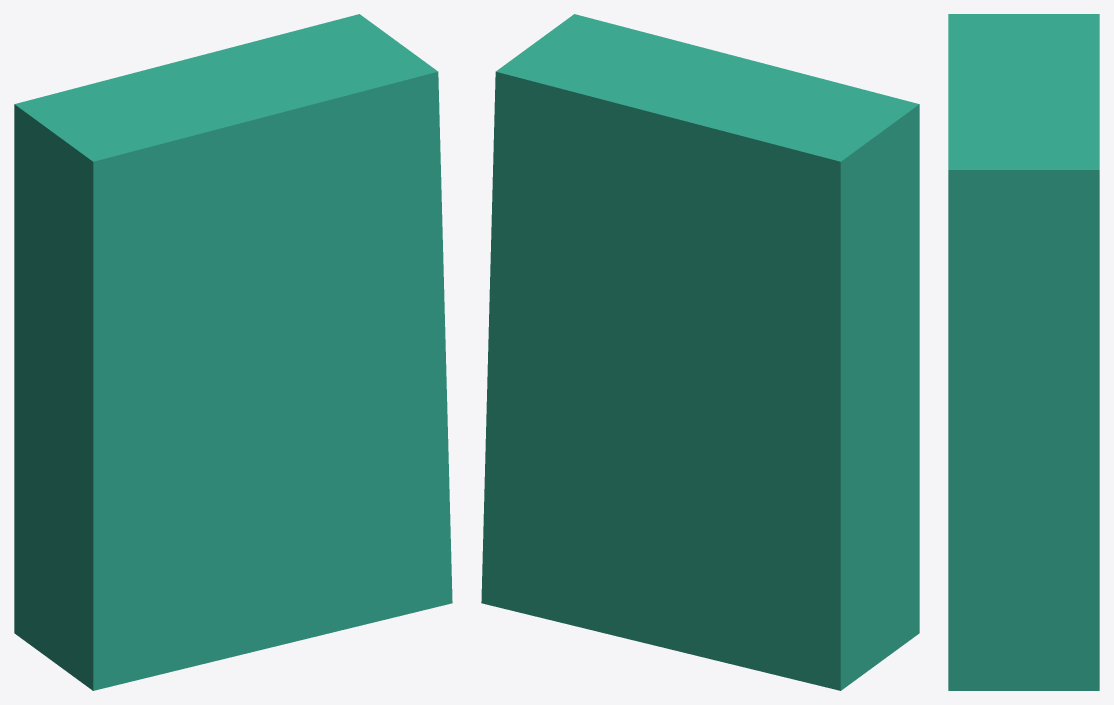
The picture shows the model from 3 angles, left to right: view 1: azimuth 30°, elevation 25°; view 2: azimuth 150°, elevation 25°; view 3: azimuth 270°, elevation 25°; orthographic projection. The views are drawn at different scales.
Visible parts, largest first — view 1: geometry_0; view 2: geometry_0; view 3: geometry_0.
Boxes of the visible parts, x1=… form: geometry_0: x1=14, y1=14, x2=452, y2=690; geometry_0: x1=481, y1=14, x2=919, y2=690; geometry_0: x1=948, y1=14, x2=1099, y2=690.
Size of the model in its own units: 7.91 by 11.25 by 3.
